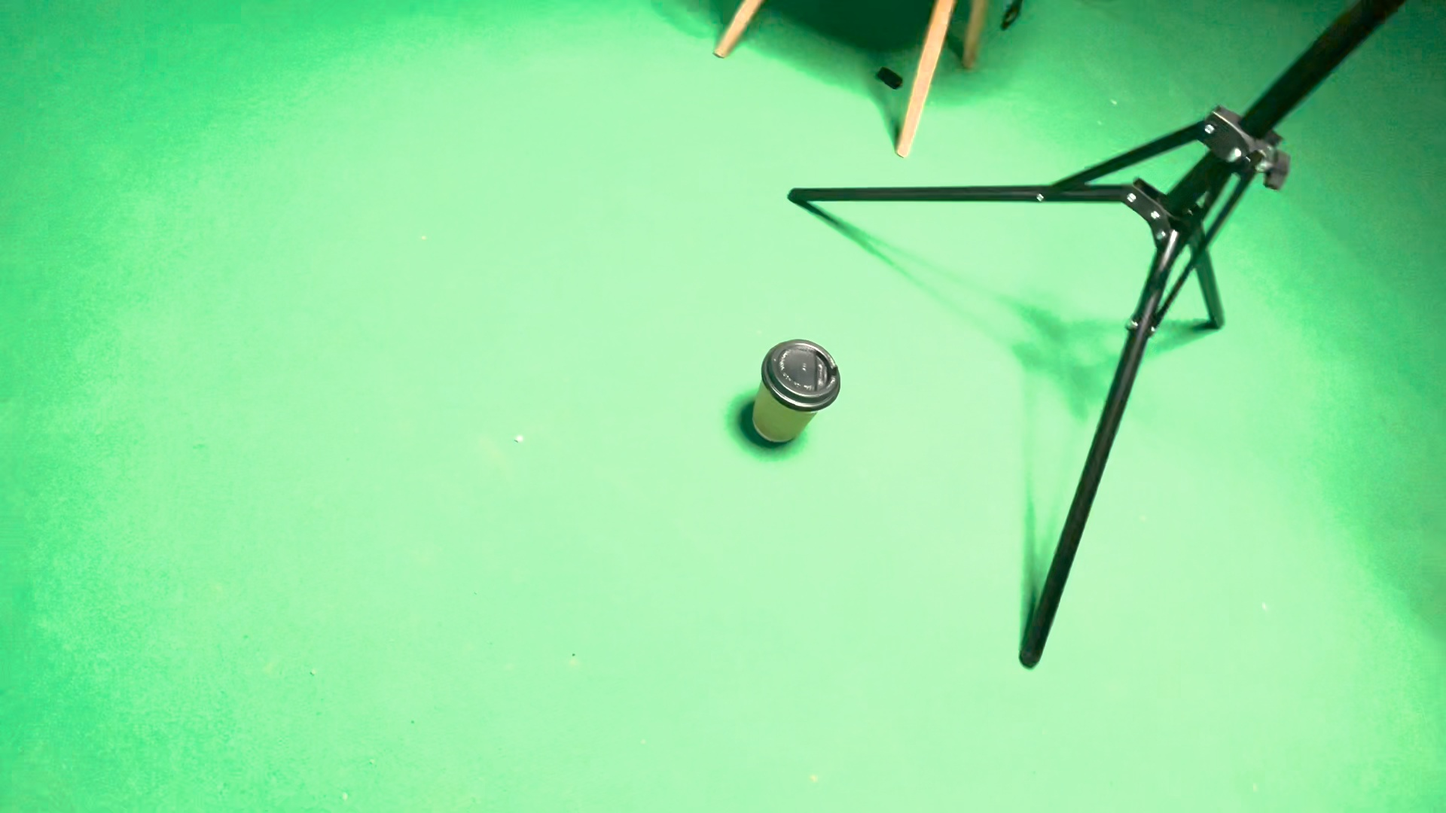cup: (697, 441, 822, 624)
